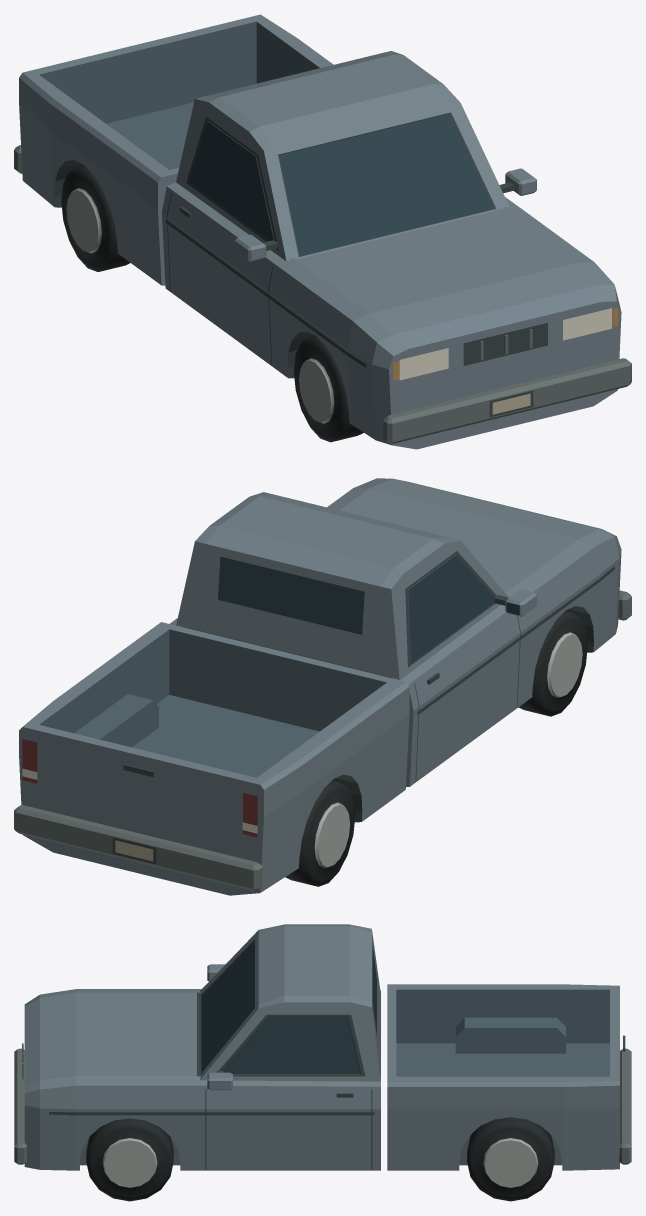
File: Pickup_Truck.fbx
3 views of the same model, one above another, from view 1: azimuth 30°, elevation 25°; view 2: azimuth 150°, elevation 25°; view 3: azimuth 270°, elevation 25° (orthographic). The views are drawn at different scales.
Visible parts, largest first — view 1: Pickup_Hood_And_Lower_Cab, Light_Pickup_Truck_Cabin, Pickup_Cargo_Bed_Interior, Pickup_Cargo_Bed_Shell, Light_Pickup_Truck_Bumpers, Light_Pickup_Truck_Lights_Grille_Plates, Pickup_Wheel_Rear_Left, Pickup_Wheel_Front_Left, Light_Pickup_Truck_Mirrors, Light_Pickup_Truck_Door_Trim; view 2: Light_Pickup_Truck_Cabin, Pickup_Cargo_Bed_Interior, Pickup_Hood_And_Lower_Cab, Pickup_Cargo_Bed_Shell, Light_Pickup_Truck_Bumpers, Light_Pickup_Truck_Door_Trim, Pickup_Wheel_Rear_Left, Pickup_Wheel_Front_Left, Light_Pickup_Truck_Lights_Grille_Plates, Light_Pickup_Truck_Mirrors; view 3: Pickup_Hood_And_Lower_Cab, Light_Pickup_Truck_Cabin, Pickup_Cargo_Bed_Interior, Pickup_Cargo_Bed_Shell, Pickup_Wheel_Rear_Right, Pickup_Wheel_Front_Right, Light_Pickup_Truck_Bumpers, Light_Pickup_Truck_Door_Trim, Light_Pickup_Truck_Mirrors.
Boxes of the visible parts, x1=… form: Pickup_Hood_And_Lower_Cab: x1=161, y1=182, x2=621, y2=449; Light_Pickup_Truck_Cabin: x1=176, y1=51, x2=509, y2=261; Pickup_Cargo_Bed_Interior: x1=23, y1=14, x2=333, y2=177; Pickup_Cargo_Bed_Shell: x1=19, y1=73, x2=177, y2=285; Light_Pickup_Truck_Bumpers: x1=14, y1=145, x2=631, y2=443; Light_Pickup_Truck_Lights_Grille_Plates: x1=393, y1=308, x2=618, y2=417; Pickup_Wheel_Rear_Left: x1=61, y1=166, x2=130, y2=271; Pickup_Wheel_Front_Left: x1=293, y1=336, x2=363, y2=442; Light_Pickup_Truck_Mirrors: x1=234, y1=168, x2=536, y2=261; Light_Pickup_Truck_Door_Trim: x1=165, y1=193, x2=365, y2=367; Light_Pickup_Truck_Cabin: x1=176, y1=492, x2=508, y2=679; Pickup_Cargo_Bed_Interior: x1=23, y1=622, x2=405, y2=784; Pickup_Hood_And_Lower_Cab: x1=170, y1=478, x2=621, y2=786; Pickup_Cargo_Bed_Shell: x1=19, y1=682, x2=409, y2=895; Light_Pickup_Truck_Bumpers: x1=14, y1=590, x2=631, y2=890; Light_Pickup_Truck_Door_Trim: x1=41, y1=566, x2=614, y2=818; Pickup_Wheel_Rear_Left: x1=285, y1=781, x2=355, y2=886; Pickup_Wheel_Front_Left: x1=518, y1=611, x2=587, y2=716; Light_Pickup_Truck_Lights_Grille_Plates: x1=22, y1=739, x2=257, y2=864; Light_Pickup_Truck_Mirrors: x1=494, y1=589, x2=536, y2=616; Pickup_Hood_And_Lower_Cab: x1=24, y1=989, x2=380, y2=1170; Light_Pickup_Truck_Cabin: x1=197, y1=924, x2=380, y2=1081; Pickup_Cargo_Bed_Interior: x1=387, y1=984, x2=619, y2=1082; Pickup_Cargo_Bed_Shell: x1=387, y1=1081, x2=619, y2=1170; Pickup_Wheel_Rear_Right: x1=467, y1=1117, x2=554, y2=1201; Pickup_Wheel_Front_Right: x1=86, y1=1118, x2=173, y2=1201; Light_Pickup_Truck_Bumpers: x1=14, y1=1048, x2=631, y2=1164; Light_Pickup_Truck_Door_Trim: x1=49, y1=1035, x2=625, y2=1169; Light_Pickup_Truck_Mirrors: x1=207, y1=964, x2=232, y2=1090.
Size of the model in its own units: 2.12 by 1.65 by 4.8.
